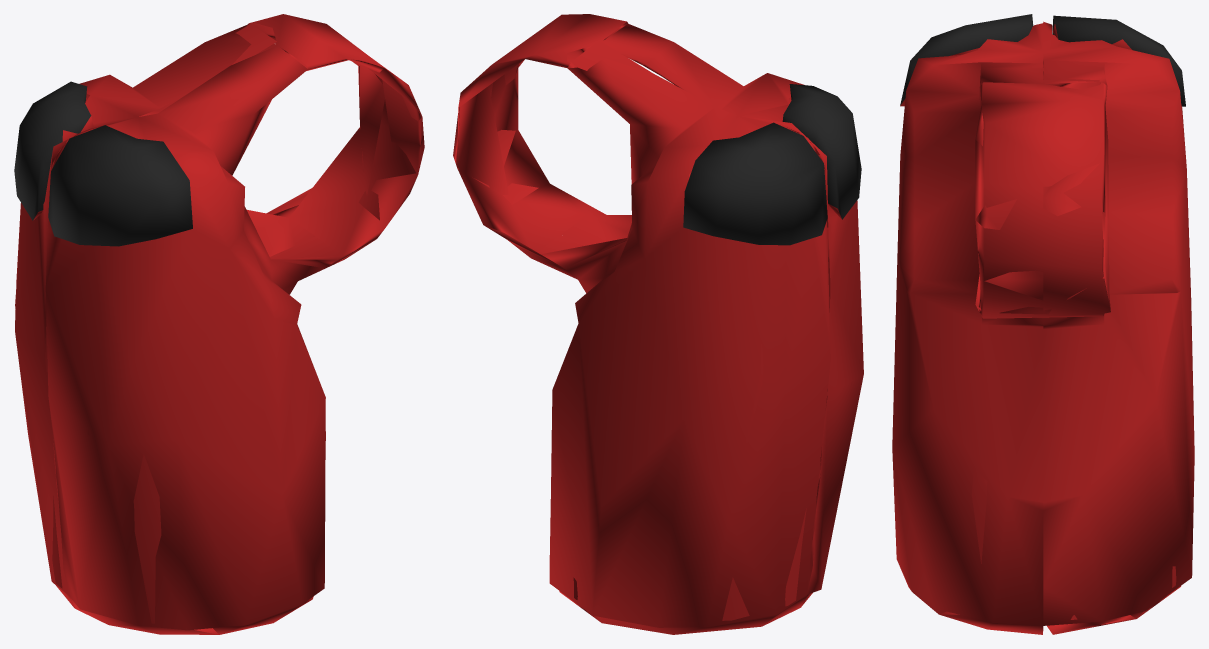
Rendered from E0_decimate2.dae.
3 views of the same model, side by side, from view 1: azimuth 30°, elevation 25°; view 2: azimuth 150°, elevation 25°; view 3: azimuth 270°, elevation 25° (orthographic). The views are drawn at different scales.
Visible parts, largest first — view 1: E0; view 2: E0; view 3: E0.
Part boxes in pixels (bbox=[...]): E0: bbox=[14, 14, 424, 634]; E0: bbox=[453, 14, 863, 634]; E0: bbox=[892, 14, 1194, 634].
Size of the model in its own units: 0.2238 by 0.1584 by 0.3134.
